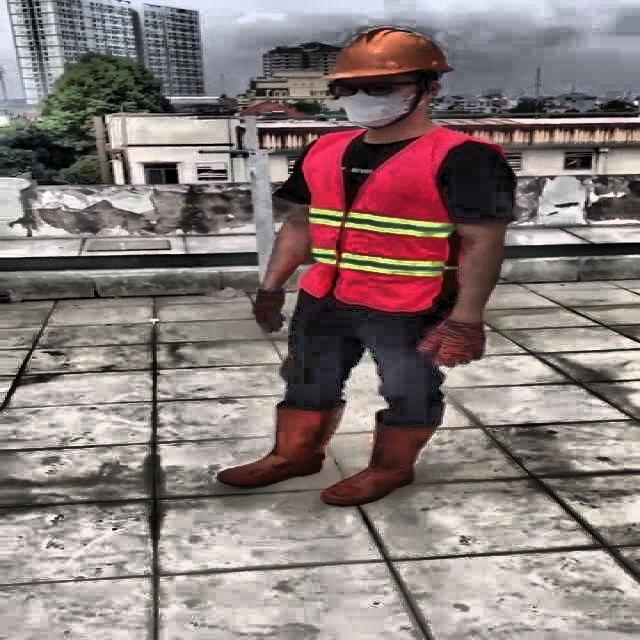safety_jacket: (297, 130, 457, 310)
